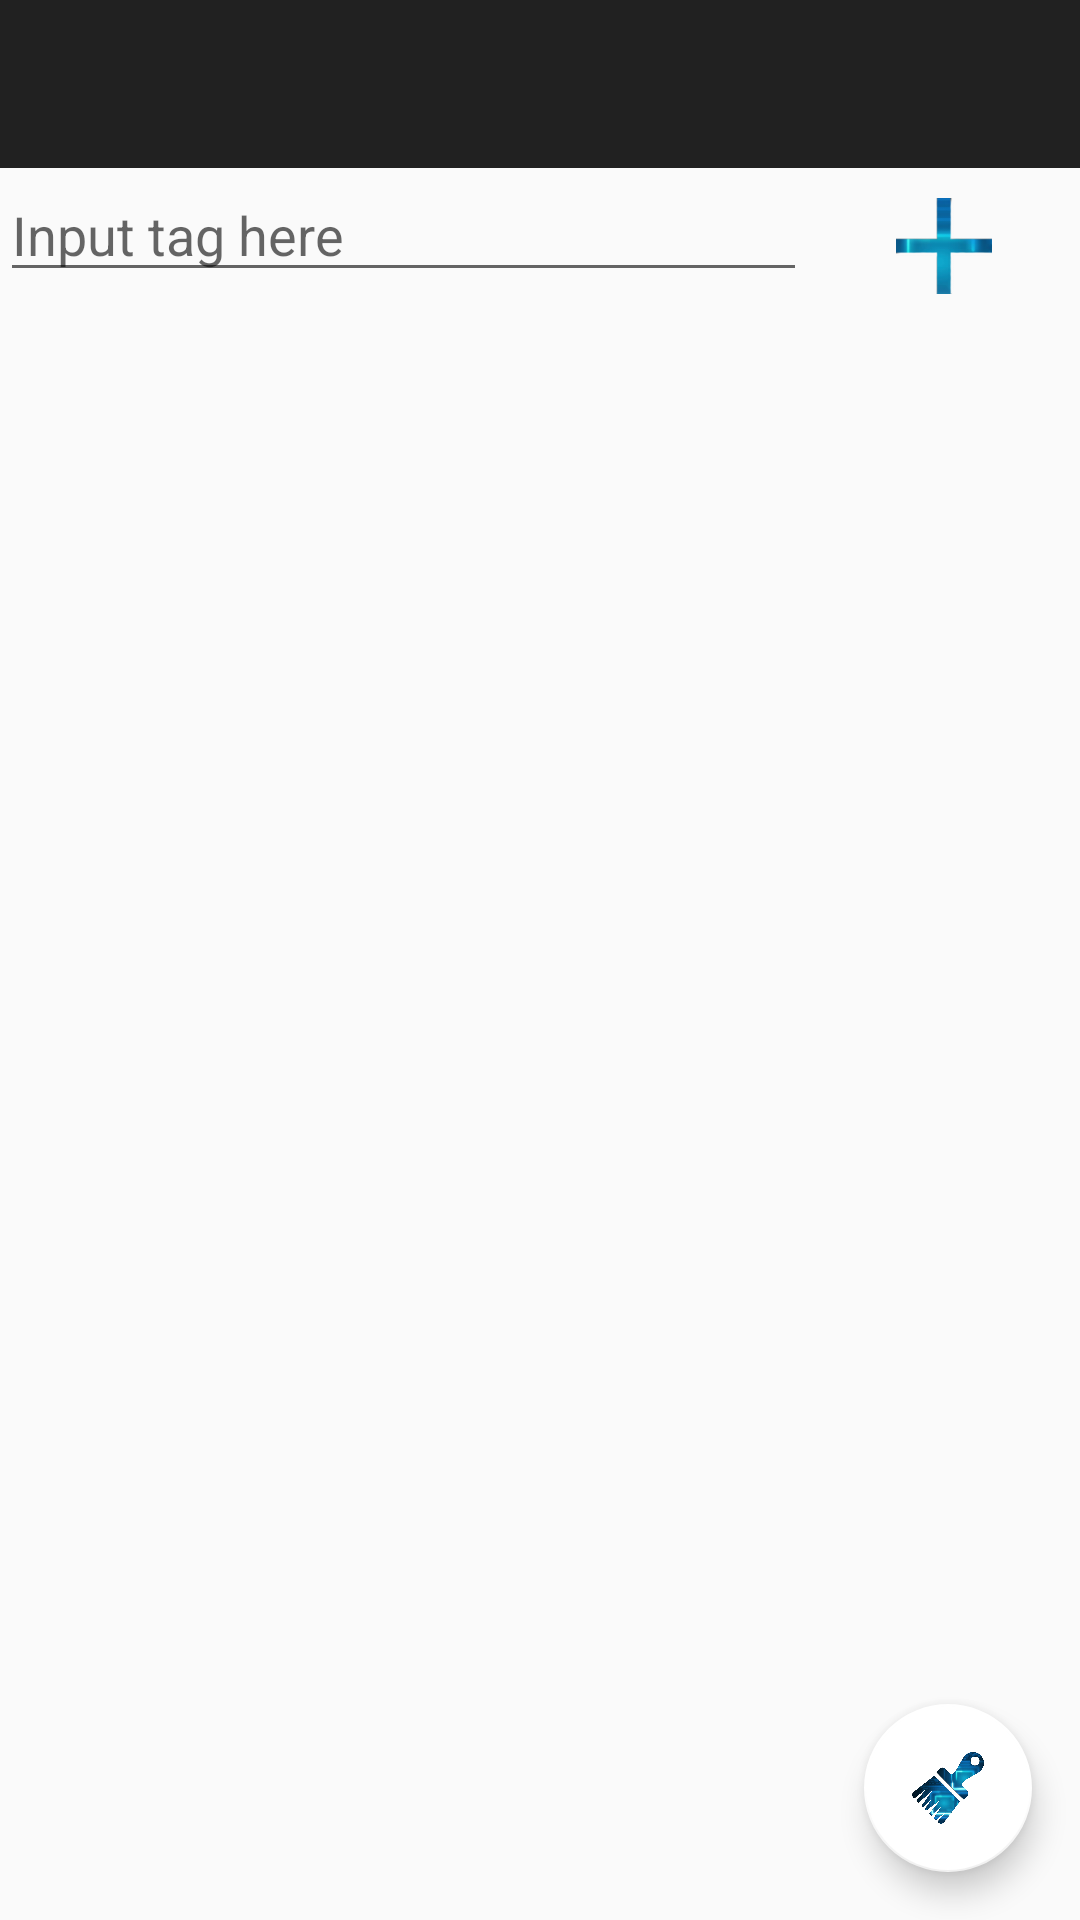

Where to tap for icons on this 1080x1920 app screen, as (x=x, y=y):
clear: (x=948, y=1788)
plus: (x=944, y=246)
